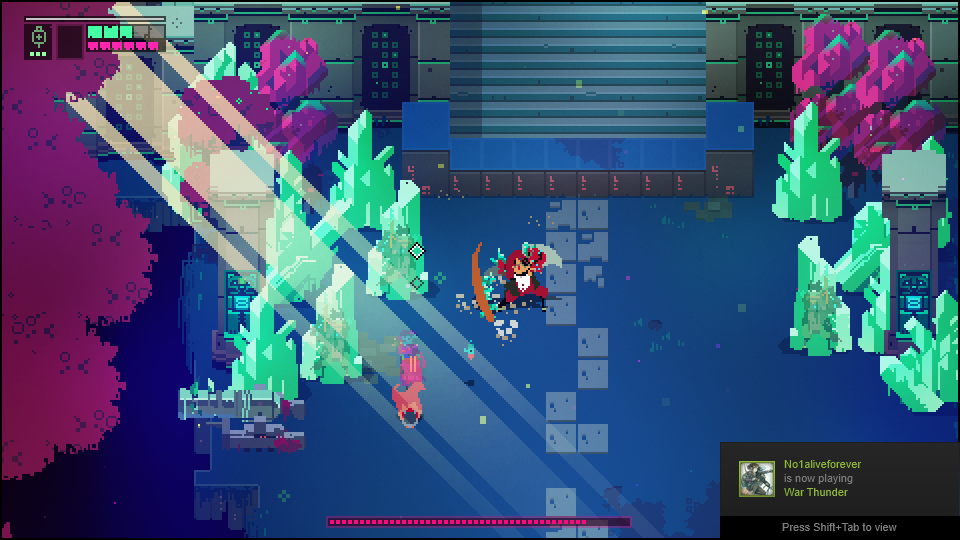hanged_man: (465, 238, 568, 330)
player: (390, 379, 430, 436)
